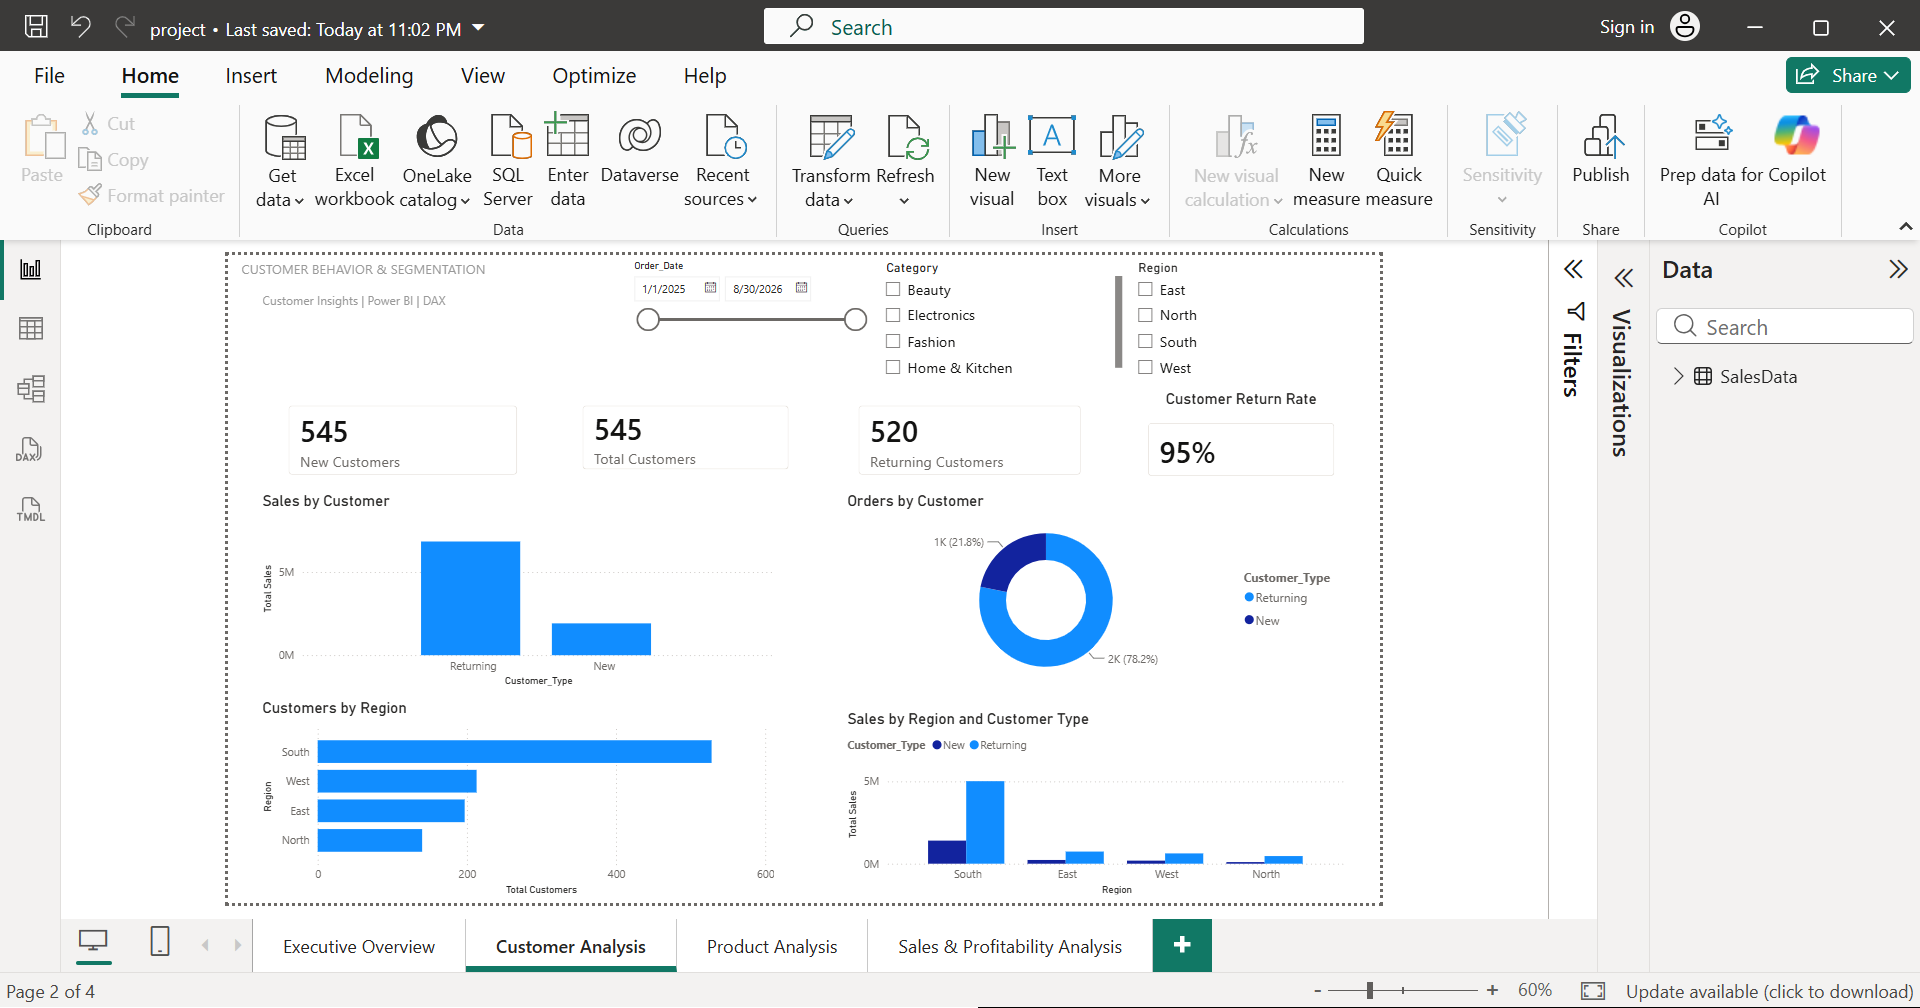

What the dashboard file says about the page in this screenshot:
{"tool":"powerbi","page":{"name":"Customer Analysis","canvas":[1280,720],"ordinal":1},"visuals":[{"type":"textbox","box":[9.7,0,323.8,35.6],"z":0},{"type":"textbox","box":[34,35.6,280.1,32.4],"z":1000},{"type":"slicer","fields":{"Values":["SalesData.Order_Date"]},"box":[438.3,0,280,148.3],"z":2000},{"type":"slicer","fields":{"Values":["SalesData.Category"]},"box":[718.3,0,280,150],"z":3000},{"type":"slicer","fields":{"Values":["SalesData.Region"]},"box":[998.3,0,281.7,150],"z":4000},{"type":"cardVisual","fields":{"Data":["SalesData.Total Customers"]},"box":[376.7,150,263.3,105],"z":5000},{"type":"cardVisual","fields":{"Data":["SalesData.New Customers"]},"box":[50,150,288.3,111.7],"z":6000},{"type":"cardVisual","fields":{"Data":["SalesData.Returning Customers"]},"box":[683.3,150,281.7,111.7],"z":7000},{"type":"cardVisual","title":"Customer Return Rate ","fields":{"Data":["SalesData.Customer Return Rate %"]},"box":[1005,150,241.7,113.3],"z":8000},{"type":"clusteredColumnChart","title":"Sales by Customer","fields":{"Category":["SalesData.Customer_Type"],"Y":["SalesData.Total Sales"]},"box":[33.3,263.3,578.3,220],"z":9000},{"type":"donutChart","title":" Orders by Customer","fields":{"Category":["SalesData.Customer_Type"],"Y":["SalesData.Total Orders"]},"box":[683.3,263.3,563.3,220],"z":10000},{"type":"clusteredBarChart","title":"Customers by Region","fields":{"Category":["SalesData.Region"],"Y":["SalesData.Total Customers"]},"box":[33.3,493.3,578.3,221.7],"z":11000},{"type":"clusteredColumnChart","title":"Sales by Region and Customer Type","fields":{"Category":["SalesData.Region"],"Y":["SalesData.Total Sales"],"Series":["SalesData.Customer_Type"]},"box":[683.3,505,563.3,210],"z":12000}]}

Visuals, with their boxes on the page's 1280x720 design canvas (x1, y1, x2, y2). These are canvas units, not pixel positions in the 1920x1008 screenshot, which may show the page scaled, cropped or inside an application window:
textbox: Rect(10, 0, 334, 36)
textbox: Rect(34, 36, 314, 68)
slicer - SalesData.Order_Date: Rect(438, 0, 718, 148)
slicer - SalesData.Category: Rect(718, 0, 998, 150)
slicer - SalesData.Region: Rect(998, 0, 1280, 150)
cardVisual - SalesData.Total Customers: Rect(377, 150, 640, 255)
cardVisual - SalesData.New Customers: Rect(50, 150, 338, 262)
cardVisual - SalesData.Returning Customers: Rect(683, 150, 965, 262)
"Customer Return Rate " cardVisual: Rect(1005, 150, 1247, 263)
"Sales by Customer" clusteredColumnChart: Rect(33, 263, 612, 483)
" Orders by Customer" donutChart: Rect(683, 263, 1247, 483)
"Customers by Region" clusteredBarChart: Rect(33, 493, 612, 715)
"Sales by Region and Customer Type" clusteredColumnChart: Rect(683, 505, 1247, 715)
